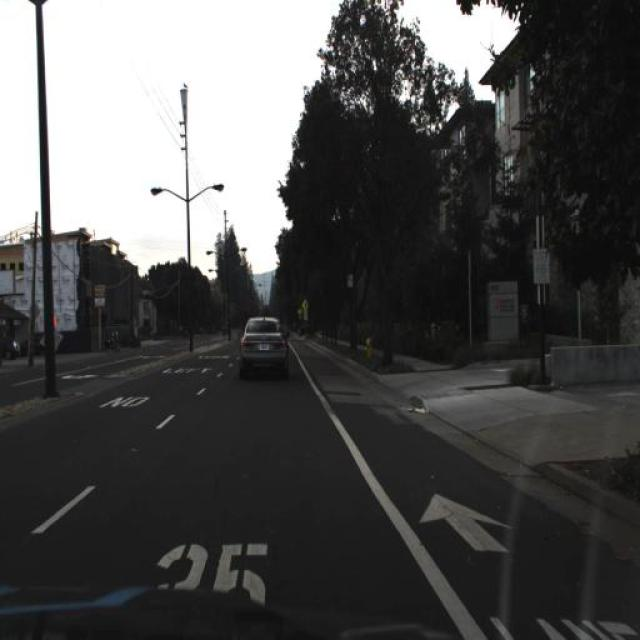car: (234, 312, 292, 382)
